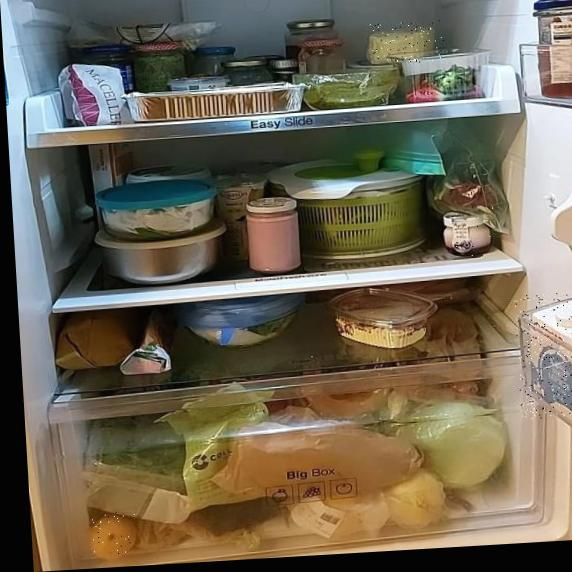cheese: (370, 19, 445, 65)
lemon: (88, 510, 140, 560)
milk: (513, 291, 572, 421)
yoghurt: (441, 206, 497, 261)
